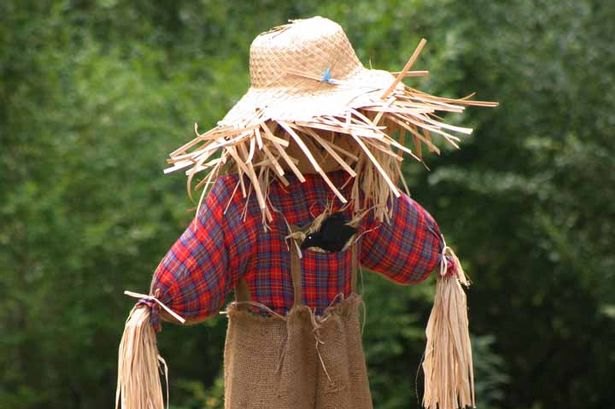person-like: (116, 15, 478, 409)
